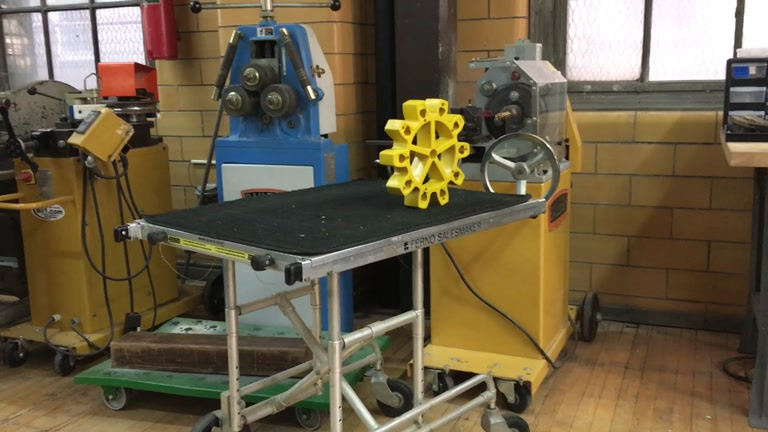gear: (379, 98, 469, 209)
